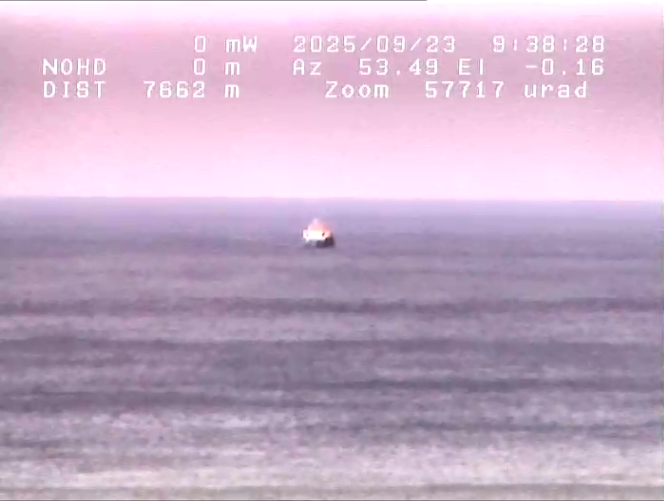TANKER: (293, 210, 342, 255)
